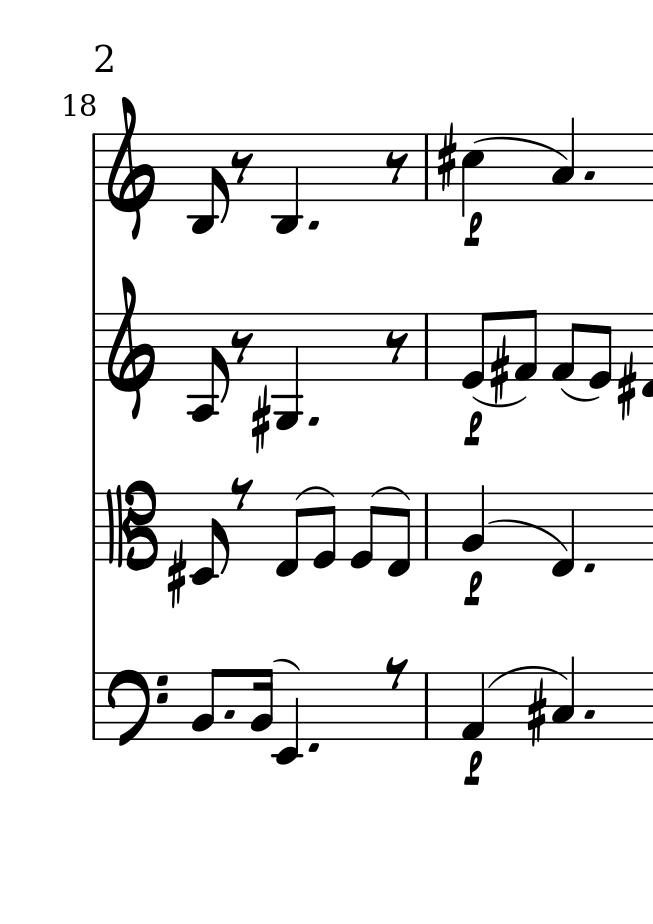1: (62, 91, 76, 118)
16_2: (249, 667, 274, 740)
2: (92, 41, 115, 73)
4_-1: (548, 490, 576, 580)
4_-2: (273, 670, 300, 766)
4_-3: (272, 134, 302, 236)
4_-5: (274, 312, 304, 431)
4_2: (461, 483, 487, 561)
4_3: (552, 116, 576, 202), (553, 655, 575, 741)
4_5: (460, 133, 486, 215)
8: (79, 91, 96, 118)
8_-1: (273, 493, 306, 580), (386, 495, 412, 580)
8_-2: (193, 492, 230, 585)
8_-3: (189, 133, 230, 237)
8_-4: (186, 313, 231, 423)
8_0: (461, 311, 492, 392), (349, 494, 379, 571), (588, 312, 613, 392), (313, 499, 338, 570)
8_1: (550, 311, 582, 384), (459, 671, 487, 742), (514, 308, 539, 383)
8_2: (189, 667, 222, 740)
Cclef: (105, 479, 157, 569)
Fclef: (109, 667, 169, 748)
Gclef: (107, 96, 156, 241), (106, 277, 155, 422)
Rests8: (230, 475, 255, 512), (384, 330, 410, 365), (229, 151, 255, 185), (384, 151, 409, 186), (230, 329, 255, 363), (384, 657, 409, 690)
Sharp: (525, 679, 548, 748), (166, 542, 187, 608), (250, 391, 271, 453), (436, 131, 456, 194), (489, 341, 509, 403), (617, 358, 637, 420)
Single_barline: (86, 674, 102, 737), (419, 315, 434, 378), (88, 313, 102, 380), (419, 134, 433, 199), (420, 672, 434, 737), (87, 494, 101, 558), (87, 134, 100, 200), (420, 497, 433, 557)
Slur: (489, 516, 569, 552), (474, 136, 570, 162), (473, 397, 528, 409), (297, 485, 335, 501), (374, 485, 411, 501), (561, 387, 599, 402), (272, 658, 301, 671)
dot: (305, 216, 326, 234), (581, 560, 599, 577), (304, 738, 323, 754), (306, 411, 321, 429), (582, 707, 597, 723), (582, 168, 596, 182), (223, 707, 236, 722)
p: (462, 751, 485, 787), (462, 412, 486, 446), (462, 570, 483, 608), (463, 211, 483, 250)
